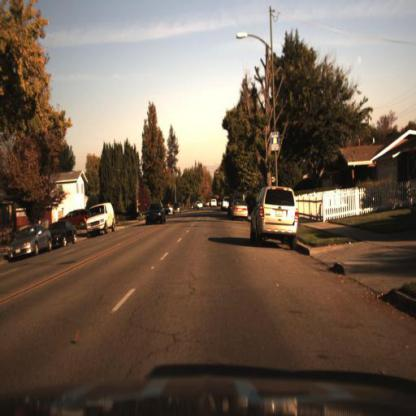car: (248, 183, 303, 257), (8, 224, 52, 265), (84, 200, 120, 240), (48, 221, 79, 251), (143, 200, 168, 227), (230, 198, 250, 224), (67, 207, 89, 230), (172, 201, 186, 215), (220, 193, 230, 211), (194, 198, 204, 213)
